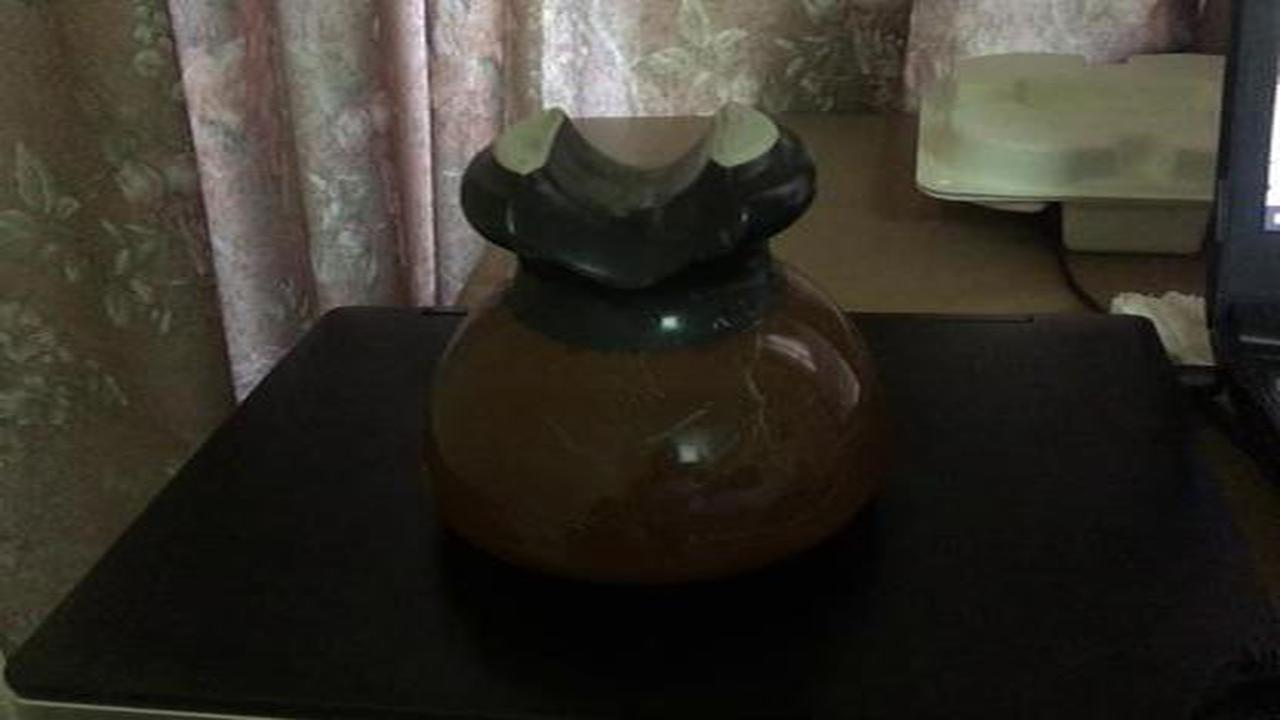insulator_pin: (404, 96, 933, 610)
